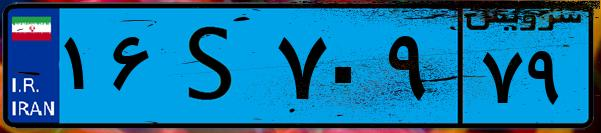0: (330, 28, 385, 110)
1: (57, 26, 110, 100)
6: (110, 28, 158, 98)
7: (270, 28, 330, 110), (475, 38, 525, 113)
9: (385, 28, 445, 110), (525, 38, 570, 115)
S: (158, 12, 270, 120)
